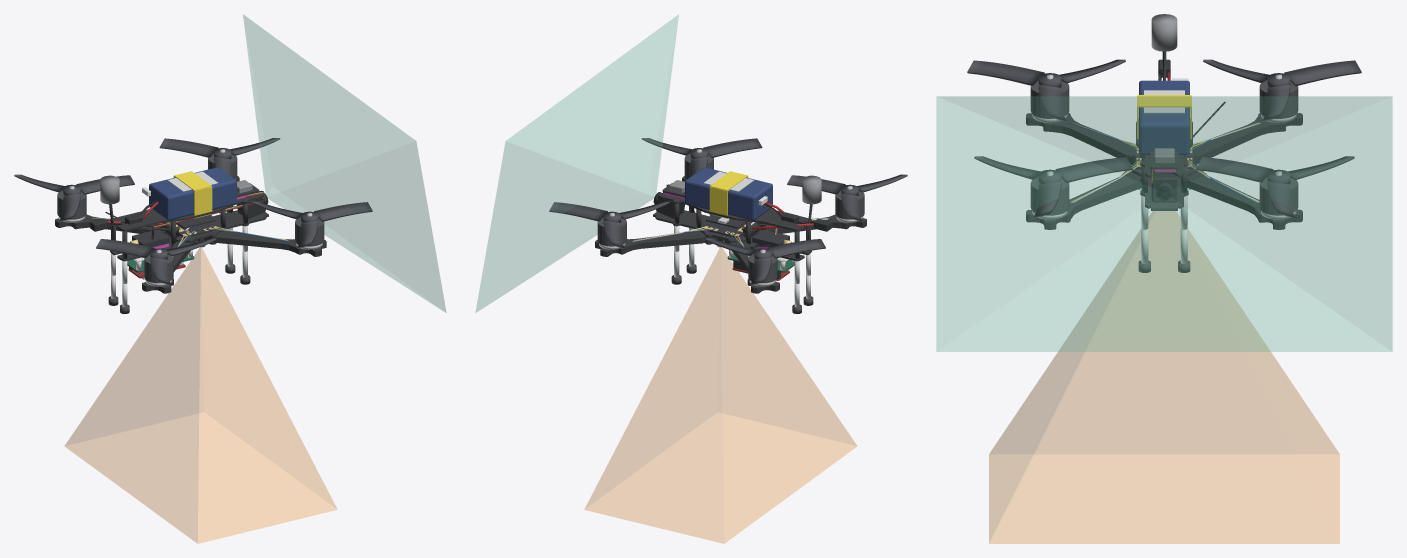
The model's file is drone-game.glb.
3 views of the same model, side by side, from view 1: azimuth 30°, elevation 25°; view 2: azimuth 150°, elevation 25°; view 3: azimuth 270°, elevation 25° (orthographic). The views are drawn at different scales.
Visible parts, largest first — view 1: cone_thermal, cone_pilot, battery_pack, prop_M1_blades, prop_M2_blades, prop_M4_blades, frame_arm_M2, prop_M3_blades, frame_top_plate, frame_middle_plate, antenna_triumph_head; view 2: cone_thermal, cone_pilot, battery_pack, prop_M3_blades, prop_M4_blades, prop_M2_blades, frame_arm_M4, prop_M1_blades, frame_top_plate, frame_middle_plate, antenna_triumph_head; view 3: cone_pilot, cone_thermal, battery_pack, prop_M1_blades, prop_M3_blades, prop_M2_blades, prop_M4_blades, frame_arm_M2, frame_arm_M4, frame_arm_M1, frame_arm_M3, antenna_triumph_head (+6 smaller).
Boxes of the visible parts, <box> form: cone_thermal: <box>65,247,337,543</box>; cone_pilot: <box>243,14,446,312</box>; battery_pack: <box>149,167,236,220</box>; prop_M1_blades: <box>96,238,216,285</box>; prop_M2_blades: <box>252,201,372,248</box>; prop_M4_blades: <box>159,138,280,176</box>; frame_arm_M2: <box>204,231,326,256</box>; prop_M3_blades: <box>14,174,134,221</box>; frame_top_plate: <box>110,194,263,231</box>; frame_middle_plate: <box>161,210,268,242</box>; antenna_triumph_head: <box>100,175,119,204</box>; cone_thermal: <box>584,247,856,543</box>; cone_pilot: <box>475,14,678,312</box>; battery_pack: <box>685,167,772,220</box>; prop_M3_blades: <box>705,238,825,285</box>; prop_M4_blades: <box>549,201,669,248</box>; prop_M2_blades: <box>641,138,762,176</box>; frame_arm_M4: <box>595,231,717,256</box>; prop_M1_blades: <box>787,174,907,221</box>; frame_top_plate: <box>658,194,811,231</box>; frame_middle_plate: <box>653,210,760,242</box>; antenna_triumph_head: <box>802,175,821,204</box>; cone_pilot: <box>936,96,1392,351</box>; cone_thermal: <box>989,211,1339,543</box>; battery_pack: <box>1139,80,1189,154</box>; prop_M1_blades: <box>967,59,1125,121</box>; prop_M3_blades: <box>1203,59,1361,121</box>; prop_M2_blades: <box>974,156,1132,218</box>; prop_M4_blades: <box>1196,156,1354,218</box>; frame_arm_M2: <box>1026,171,1141,229</box>; frame_arm_M4: <box>1187,171,1302,229</box>; frame_arm_M1: <box>1026,113,1135,165</box>; frame_arm_M3: <box>1193,113,1302,164</box>; antenna_triumph_head: <box>1151,14,1177,51</box>.
Size of the model in its own units: 0.3178 by 0.3972 by 0.3385.
